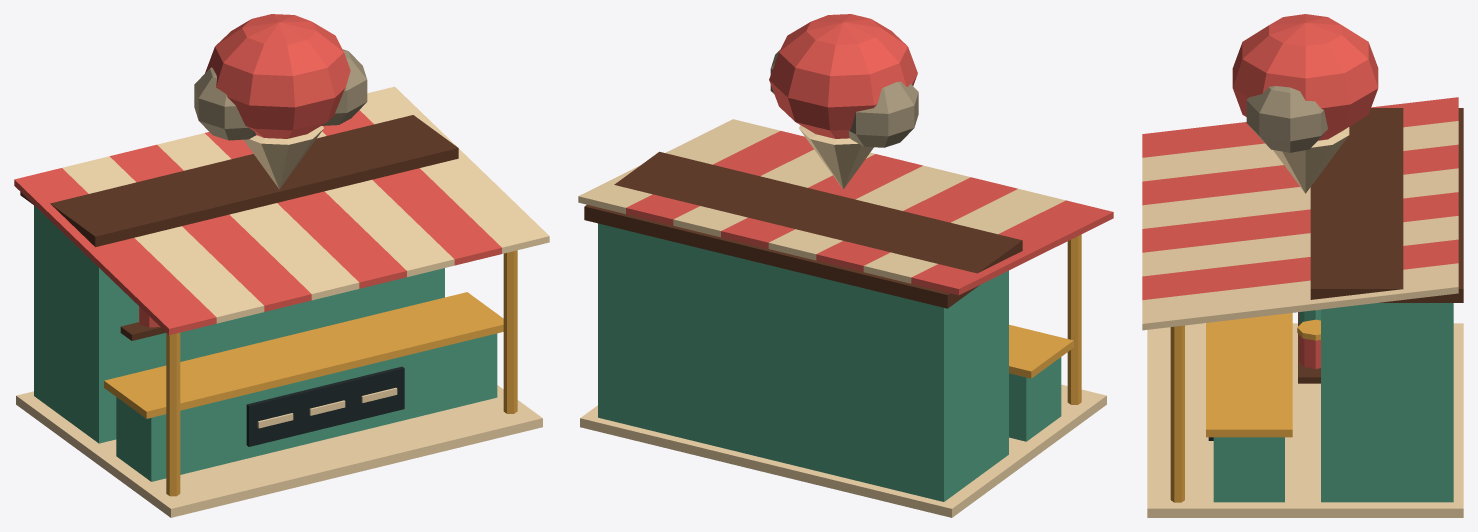
The model's file is ParkParkShopCotton.obj.
3 renders of one model, left to right at view 1: azimuth 30°, elevation 25°; view 2: azimuth 150°, elevation 25°; view 3: azimuth 270°, elevation 25°, orthographic. The views are drawn at different scales.
Visible parts, largest first — view 1: ParkParkShopCotton; view 2: ParkParkShopCotton; view 3: ParkParkShopCotton.
Boxes of the visible parts, x1,y1,x2,y2 form: ParkParkShopCotton: [14, 14, 549, 517]; ParkParkShopCotton: [578, 14, 1113, 517]; ParkParkShopCotton: [1142, 14, 1463, 517].
Bounding box in the file's own units: 8.8 × 8.7 × 6.3.
